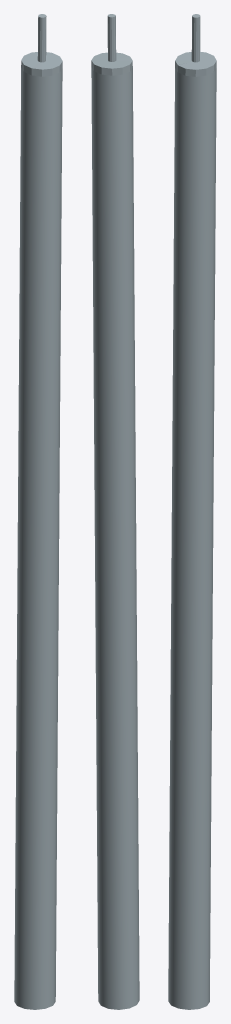
Rendered from coluna1.gltf.
3 views of the same model, side by side, from view 1: azimuth 30°, elevation 25°; view 2: azimuth 150°, elevation 25°; view 3: azimuth 330°, elevation 25° (orthographic).
Visible parts, largest first — view 1: barrierMedium.001; view 2: barrierMedium.001; view 3: barrierMedium.001.
Boxes of the visible parts, bbox=[...] form: barrierMedium.001: bbox=[14, 14, 62, 1009]; barrierMedium.001: bbox=[91, 14, 139, 1009]; barrierMedium.001: bbox=[168, 14, 216, 1009].
Size of the model in its own units: 0.182 by 4.01 by 0.1528.
